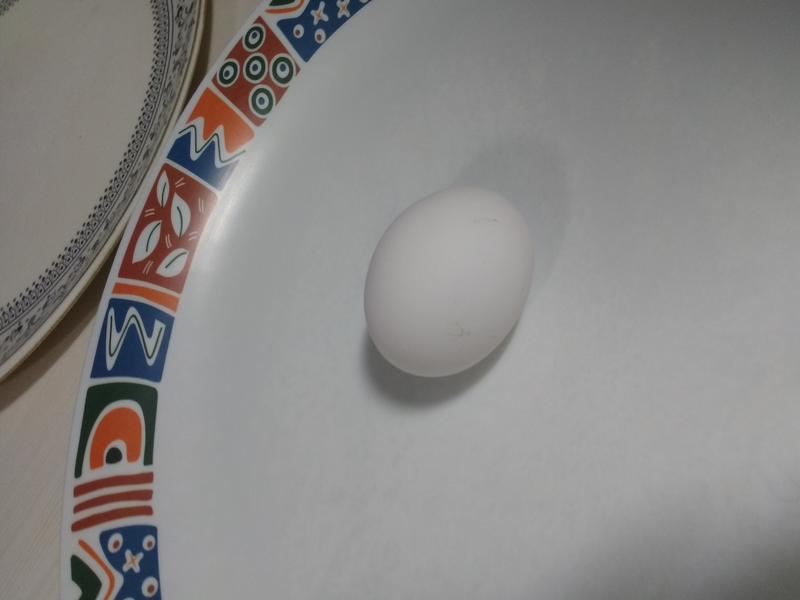egg: (368, 185, 532, 383)
